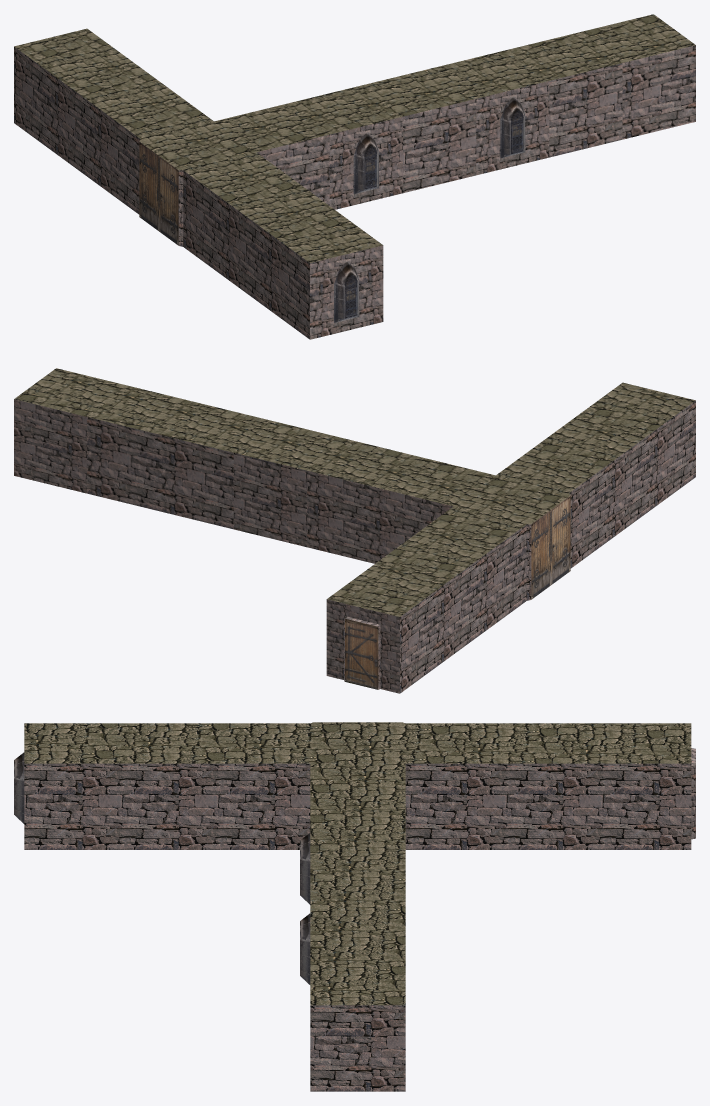
Rendered from corridor_bake2b.fbx.
The picture shows the model from 3 angles, top to bottom: view 1: azimuth 30°, elevation 25°; view 2: azimuth 150°, elevation 25°; view 3: azimuth 270°, elevation 25°; orthographic projection. The views are drawn at different scales.
Parts seen in each view (by area): view 1: Corridor, ceiling; view 2: Corridor, ceiling; view 3: Corridor, ceiling.
Boxes of the visible parts, box(x1,y1,x2,y2) form: Corridor: box(14, 45, 695, 339); ceiling: box(14, 14, 695, 262); Corridor: box(14, 399, 695, 693); ceiling: box(14, 368, 695, 616); Corridor: box(14, 748, 695, 1091); ceiling: box(24, 722, 691, 1005).
Bounding box in the file's own units: 1408 × 200 × 1431.
